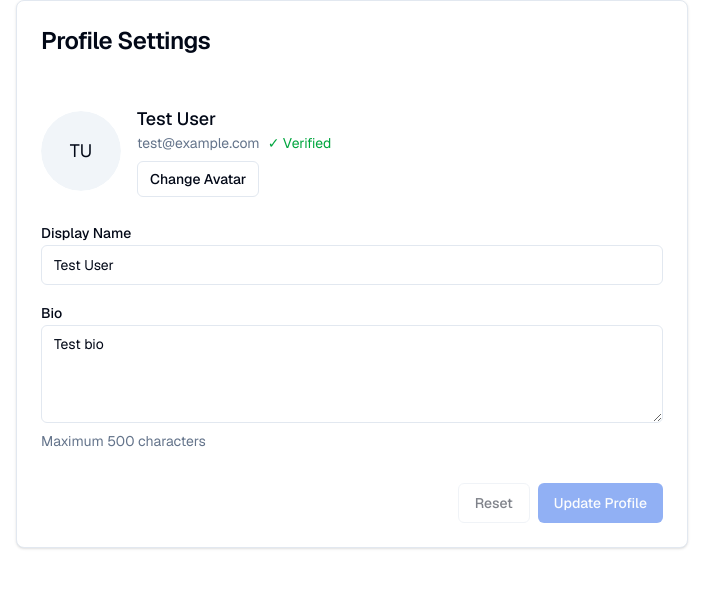
Test: ProfileForm Component › should submit form with valid data
The width and height of the screenshot is (705, 612).
Replace the text in the field labelled "Display Name" with "Updated Name": (352, 265) [41,245,663,285]
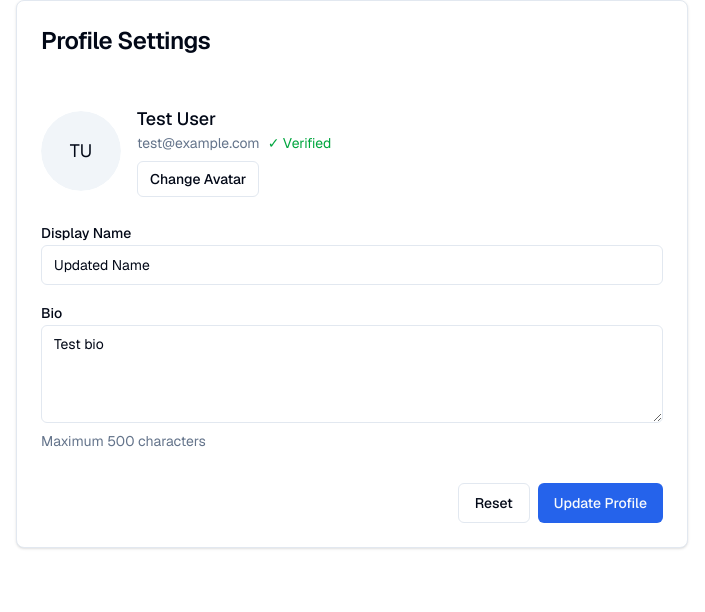
Click the button "Update Profile": (600, 503) [538,483,663,523]
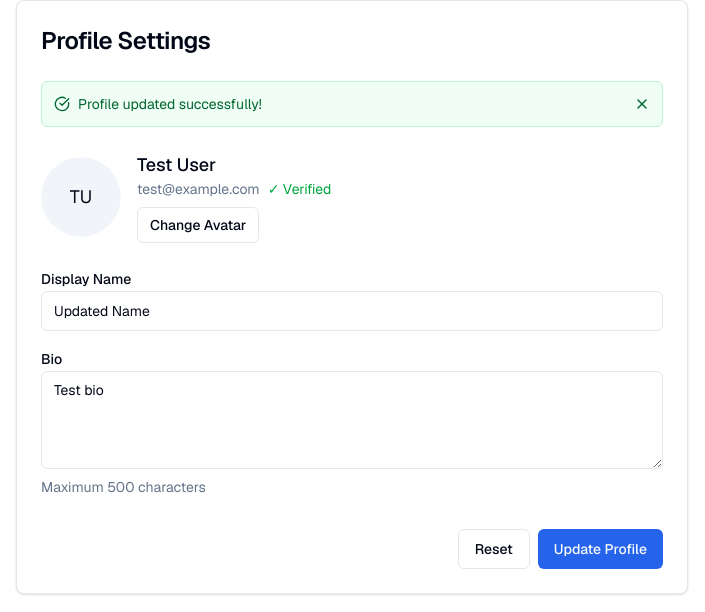
Result: the text "Profile updated successfully!" is shown at [78,95,262,113]
